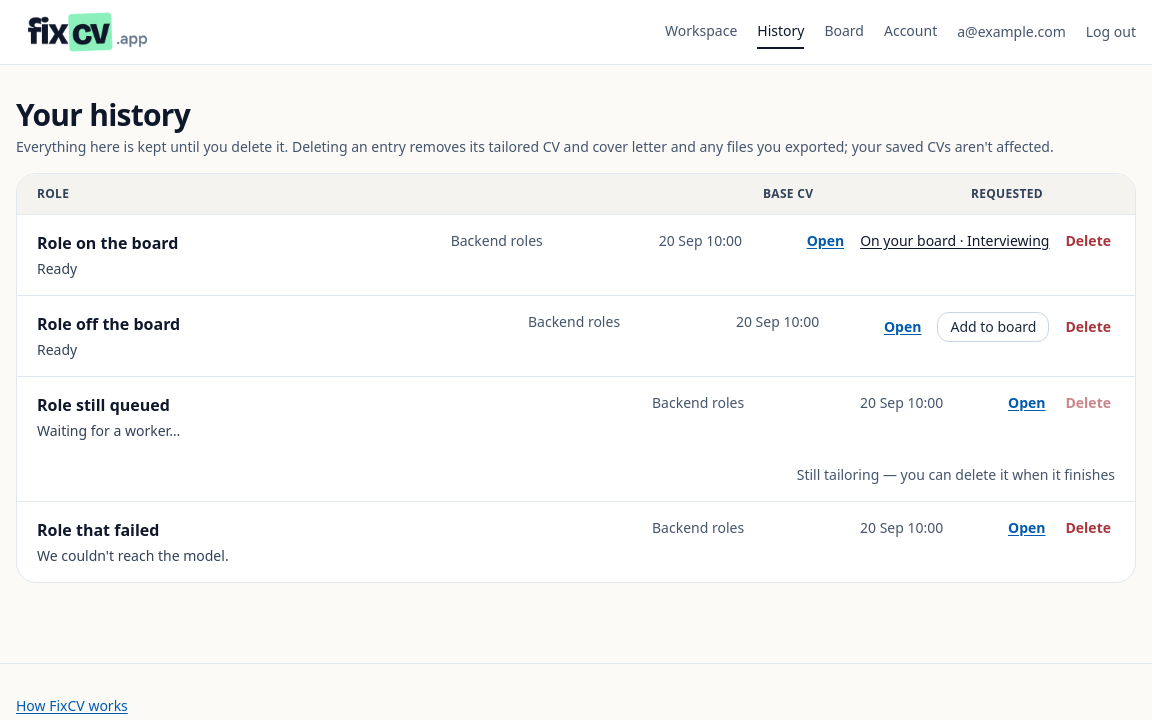
it: The history row (AC-38) › tracking a run refreshes the history pages (AC-39)
Expected: the text "Role off the board" is shown, [37, 312, 180, 336]
Click the button "Add to board" at x=993, y=327, box [937, 312, 1049, 342]
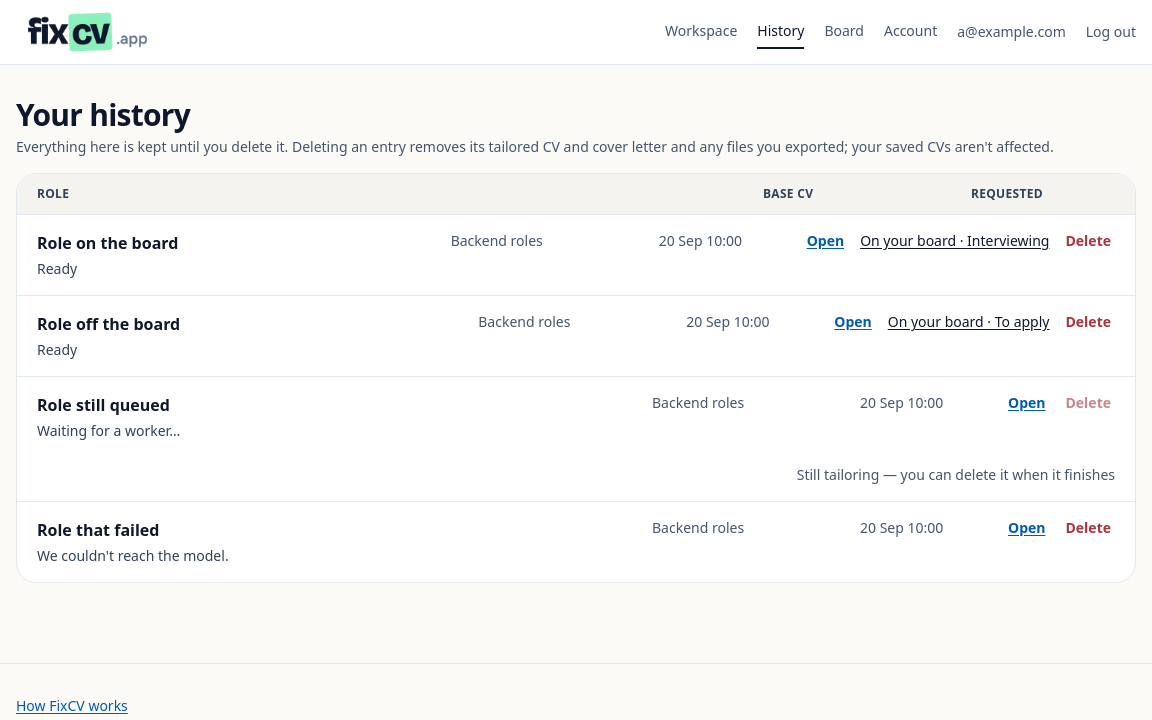
Now the link "On your board · To apply" is shown, box [888, 312, 1049, 332]
